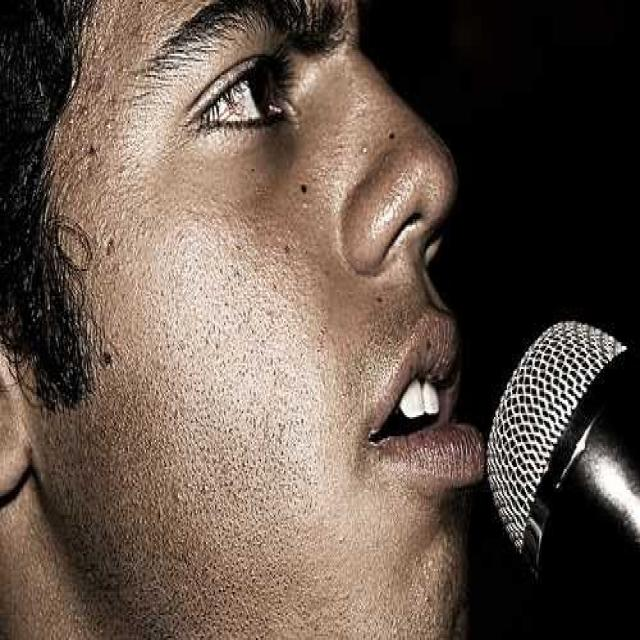microphone: (401, 309, 639, 619)
